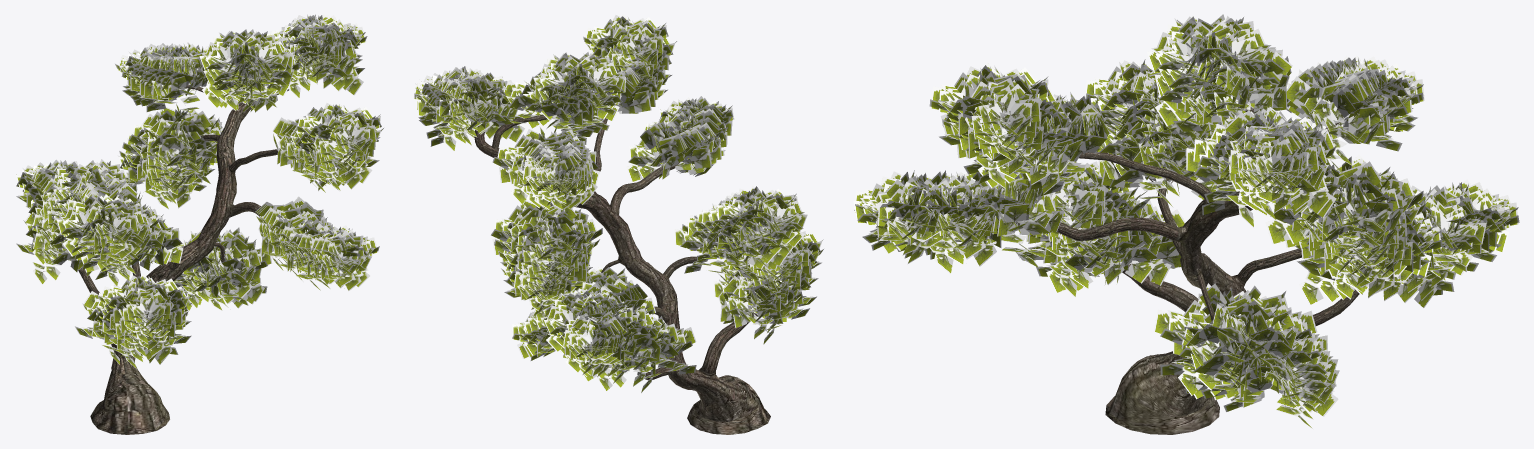
The model's file is tree-black-pine.glb.
3 views of the same model, side by side, from view 1: azimuth 30°, elevation 25°; view 2: azimuth 150°, elevation 25°; view 3: azimuth 270°, elevation 25° (orthographic). The views are drawn at different scales.
Visible parts, largest first — view 1: tree-black-pine-40k; view 2: tree-black-pine-40k; view 3: tree-black-pine-40k.
Part boxes in pixels (x1=…): tree-black-pine-40k: x1=16, y1=14, x2=383, y2=434; tree-black-pine-40k: x1=413, y1=14, x2=823, y2=434; tree-black-pine-40k: x1=853, y1=14, x2=1519, y2=434.
Bounding box in the file's own units: 6.33 × 6 × 7.53.
Materials: 3 (2 with a texture image).
